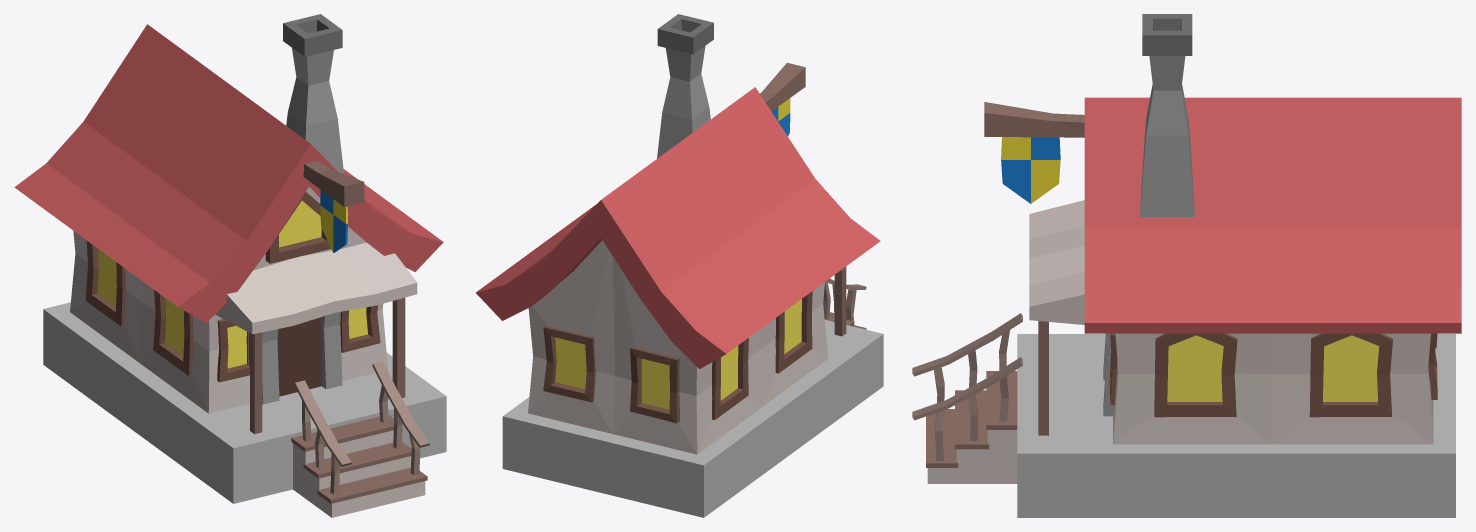
Rendered from building_006.fbx.
The picture shows the model from 3 angles, left to right: view 1: azimuth 30°, elevation 25°; view 2: azimuth 150°, elevation 25°; view 3: azimuth 270°, elevation 25°; orthographic projection. The views are drawn at different scales.
Visible parts, largest first — view 1: building.006; view 2: building.006; view 3: building.006.
Boxes of the visible parts, bbox=[...] form: building.006: bbox=[14, 14, 446, 517]; building.006: bbox=[476, 14, 883, 517]; building.006: bbox=[912, 14, 1461, 517].
Bounding box in the file's own units: 914 × 1295 × 1418.
Materials: 1 (1 with a texture image).
